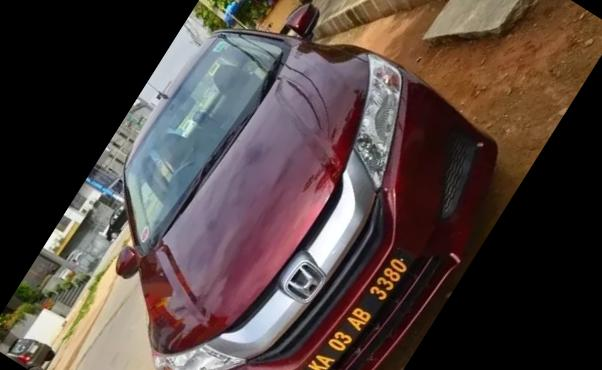plate: (290, 231, 419, 370)
